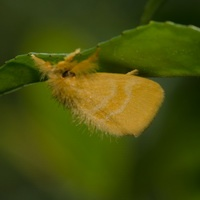insect: (31, 48, 163, 135)
